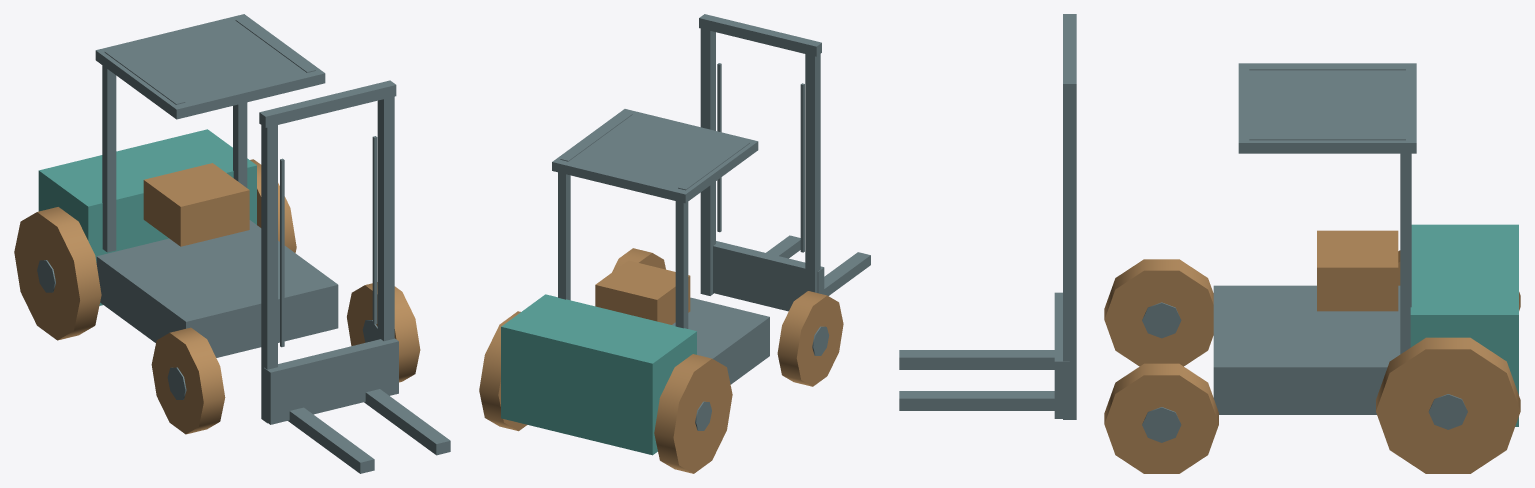
The model's file is Forklift.glb.
3 views of the same model, side by side, from view 1: azimuth 30°, elevation 25°; view 2: azimuth 150°, elevation 25°; view 3: azimuth 270°, elevation 25° (orthographic). The views are drawn at different scales.
Visible parts, largest first — view 1: forklift-static-forklift-iron-mat, forklift-static-forklift-wheel-mat, forklift-static-forklift-steel-mat, forklift-static-forklift-paint-mat, forklift-static-forklift-timber-mat; view 2: forklift-static-forklift-iron-mat, forklift-static-forklift-paint-mat, forklift-static-forklift-wheel-mat, forklift-static-forklift-steel-mat, forklift-static-forklift-timber-mat; view 3: forklift-static-forklift-iron-mat, forklift-static-forklift-wheel-mat, forklift-static-forklift-steel-mat, forklift-static-forklift-paint-mat, forklift-static-forklift-timber-mat.
Part boxes in pixels (x1,y1,x2,y2): forklift-static-forklift-iron-mat: [95, 14, 398, 424]; forklift-static-forklift-wheel-mat: [14, 159, 420, 434]; forklift-static-forklift-steel-mat: [37, 80, 450, 473]; forklift-static-forklift-paint-mat: [38, 129, 256, 305]; forklift-static-forklift-timber-mat: [143, 163, 249, 246]; forklift-static-forklift-iron-mat: [552, 63, 824, 384]; forklift-static-forklift-paint-mat: [501, 294, 696, 455]; forklift-static-forklift-wheel-mat: [479, 248, 843, 473]; forklift-static-forklift-steel-mat: [695, 14, 870, 430]; forklift-static-forklift-timber-mat: [595, 260, 690, 324]; forklift-static-forklift-iron-mat: [1054, 63, 1416, 418]; forklift-static-forklift-wheel-mat: [1104, 250, 1520, 473]; forklift-static-forklift-steel-mat: [899, 14, 1467, 442]; forklift-static-forklift-paint-mat: [1410, 224, 1518, 426]; forklift-static-forklift-timber-mat: [1317, 230, 1398, 311].
Bounding box in the file's own units: 1.84 × 2.68 × 4.12.
